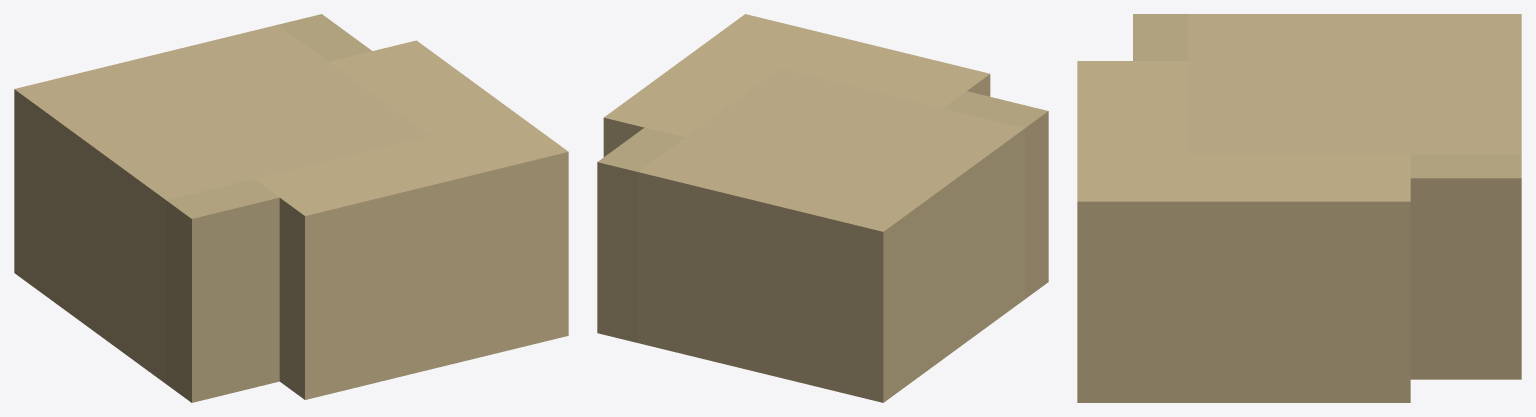
The model's file is arenisca_07.glb.
The picture shows the model from 3 angles, left to right: view 1: azimuth 30°, elevation 25°; view 2: azimuth 150°, elevation 25°; view 3: azimuth 270°, elevation 25°; orthographic projection. The views are drawn at different scales.
Parts seen in each view (by area): view 1: arenisca_07; view 2: arenisca_07; view 3: arenisca_07.
Boxes of the visible parts, <box> form: arenisca_07: <box>14,14,568,402</box>; arenisca_07: <box>597,14,1048,402</box>; arenisca_07: <box>1077,14,1521,402</box>.
Bounding box in the file's own units: 0.8 × 0.4 × 0.8.
